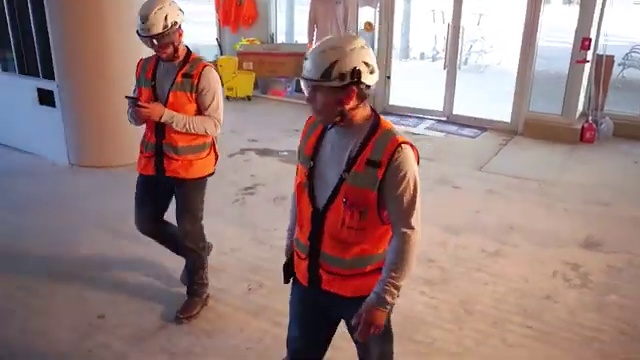helmet: (296, 37, 380, 89), (132, 1, 187, 38)
jacket: (300, 114, 418, 295), (137, 56, 230, 180)
